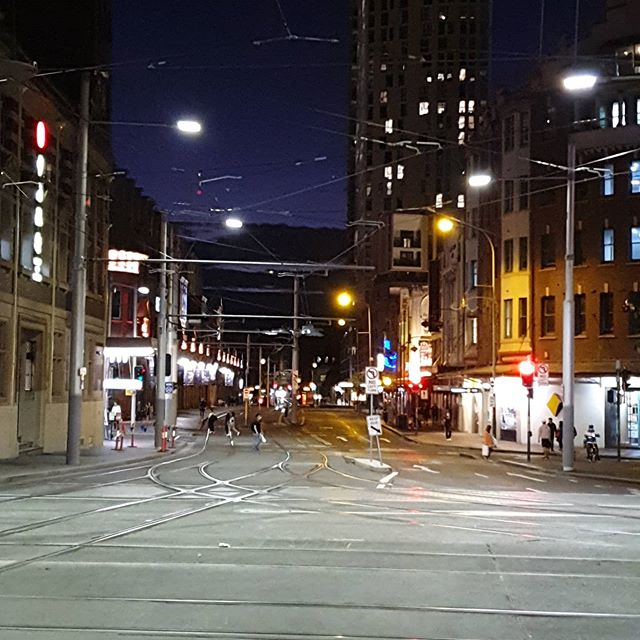building: (447, 53, 640, 461), (348, 1, 483, 435), (1, 1, 102, 456), (108, 181, 248, 409)
sky: (113, 1, 341, 229)
street: (1, 414, 639, 634)
